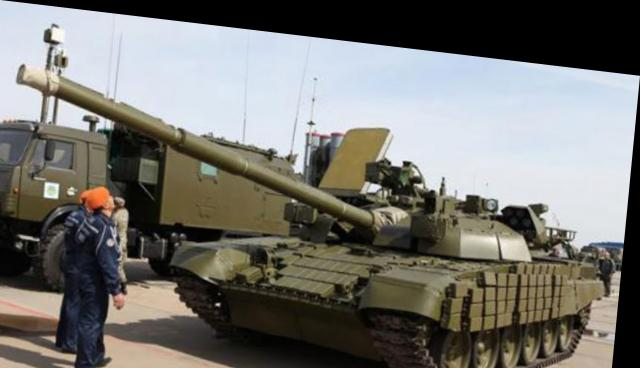other: (78, 181, 127, 366), (63, 183, 94, 347), (115, 191, 135, 256), (600, 232, 622, 282)
tank: (185, 109, 612, 366)
